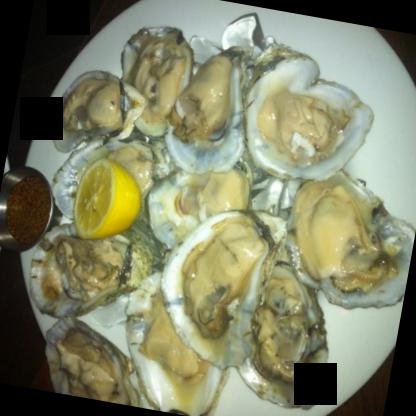lemon: (69, 152, 150, 244)
oyster: (279, 164, 415, 316), (151, 209, 277, 370), (235, 52, 381, 182), (22, 220, 154, 326), (163, 31, 248, 176), (109, 20, 199, 142), (35, 314, 152, 406), (52, 66, 132, 152)
